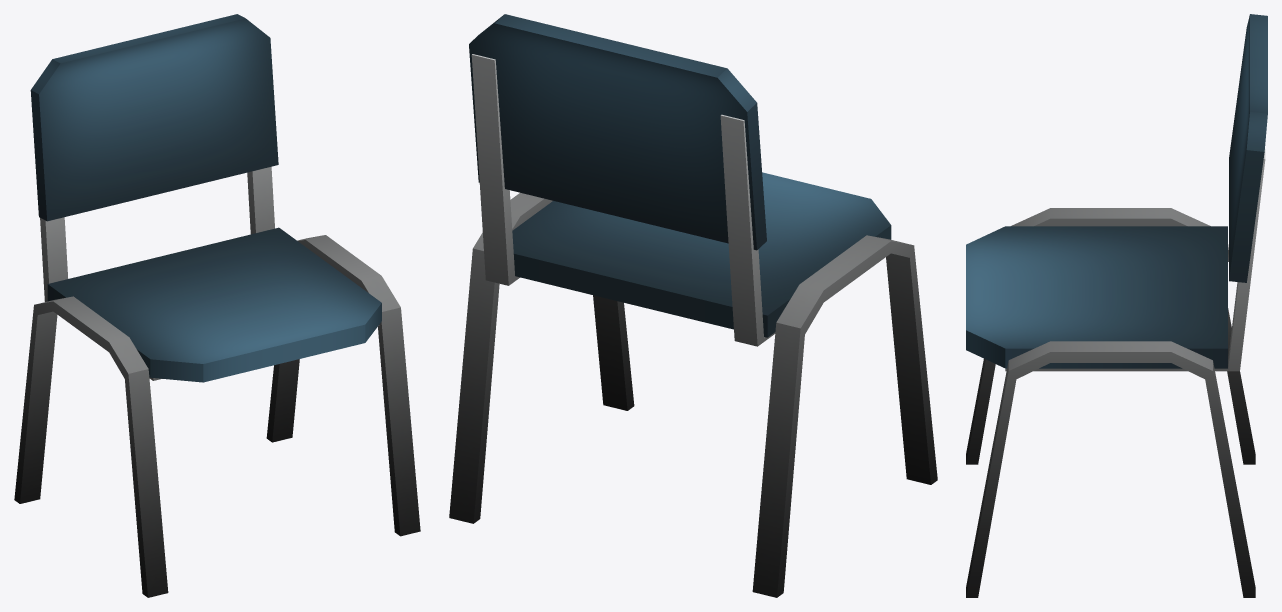
File: Chair_Conference_Teal.fbx
The picture shows the model from 3 angles, left to right: view 1: azimuth 30°, elevation 25°; view 2: azimuth 150°, elevation 25°; view 3: azimuth 270°, elevation 25°; orthographic projection. The views are drawn at different scales.
Visible parts, largest first — view 1: Chair_Conference_Teal; view 2: Chair_Conference_Teal; view 3: Chair_Conference_Teal.
Boxes of the visible parts, left/top/right/bottom form: Chair_Conference_Teal: left=14, top=14, right=420, bottom=597; Chair_Conference_Teal: left=449, top=14, right=937, bottom=597; Chair_Conference_Teal: left=966, top=14, right=1267, bottom=597.
Bounding box in the file's own units: 54.47 × 81.7 × 48.28.
